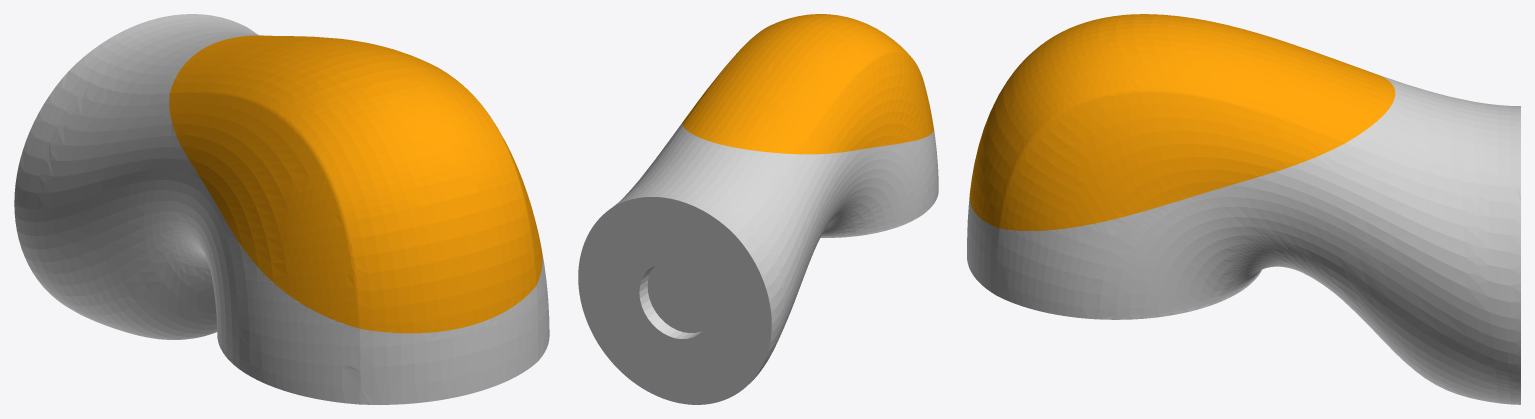
3 renders of one model, left to right at view 1: azimuth 30°, elevation 25°; view 2: azimuth 150°, elevation 25°; view 3: azimuth 270°, elevation 25°, orthographic. The views are drawn at different scales.
Parts seen in each view (by area): view 1: Link_4; view 2: Link_4; view 3: Link_4.
Part boxes in pixels (x1,y1,x2,y2): Link_4: (14,14,549,404); Link_4: (578,14,938,404); Link_4: (967,14,1520,404).
Bounding box in the file's own units: 0.136 × 0.2525 × 0.1826.
